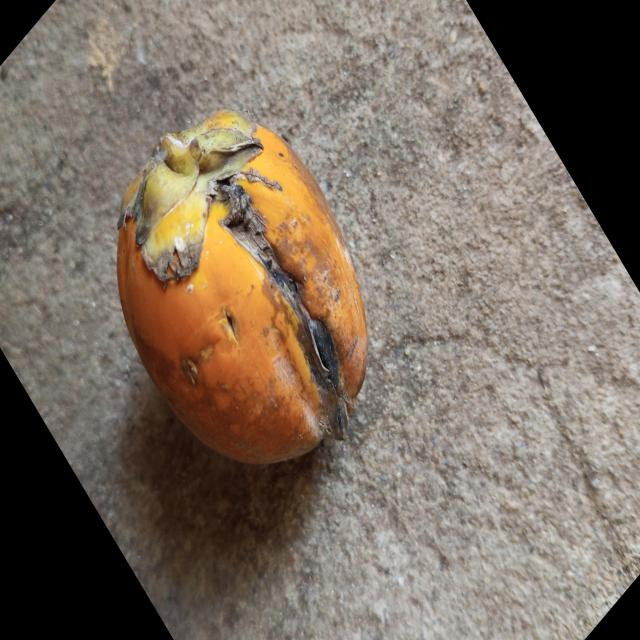damaged: (115, 111, 369, 468)
